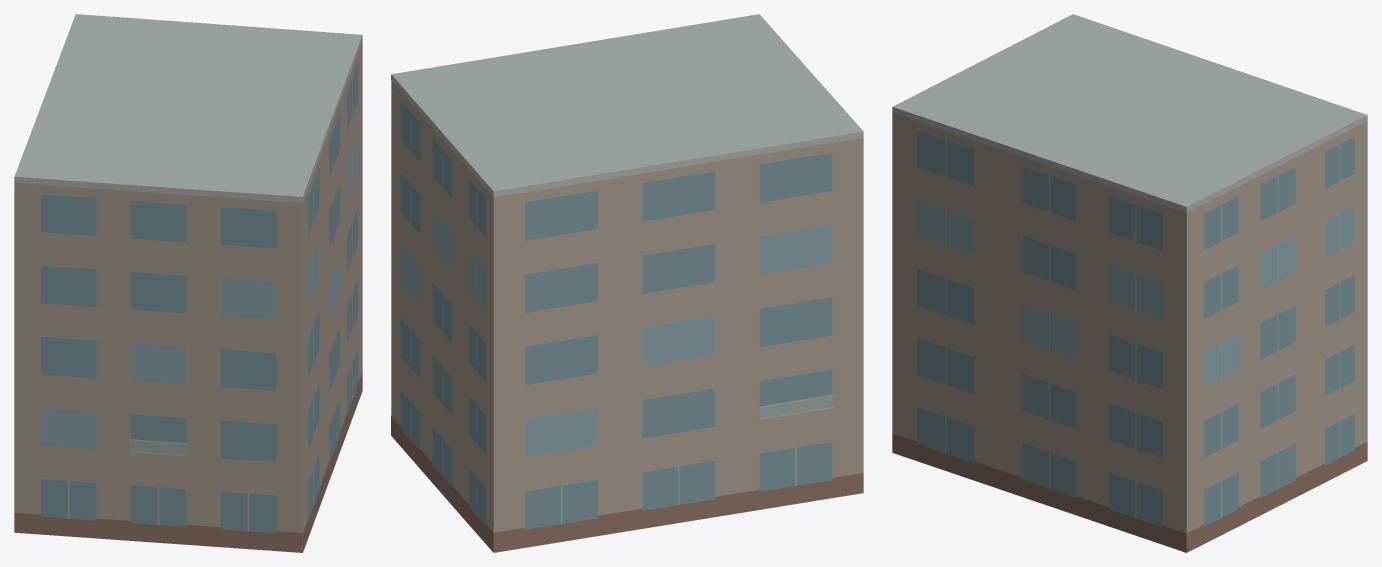
Rendered from survey-upis-32731776.glb.
3 renders of one model, left to right at view 1: azimuth 30°, elevation 25°; view 2: azimuth 150°, elevation 25°; view 3: azimuth 270°, elevation 25°, orthographic. The views are drawn at different scales.
Visible parts, largest first — view 1: survey-upis-32731776.tmp; view 2: survey-upis-32731776.tmp; view 3: survey-upis-32731776.tmp.
Part boxes in pixels (x1,y1,x2,y2): survey-upis-32731776.tmp: (14, 14, 362, 552); survey-upis-32731776.tmp: (391, 14, 863, 552); survey-upis-32731776.tmp: (892, 14, 1367, 552).
Size of the model in its own units: 17.11 by 14.3 by 17.8.
